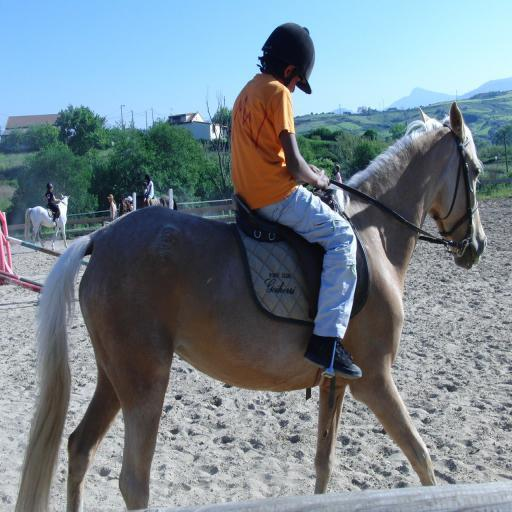horse: (14, 100, 488, 512), (26, 194, 70, 253), (116, 196, 178, 218), (136, 194, 178, 210), (118, 195, 130, 215)
